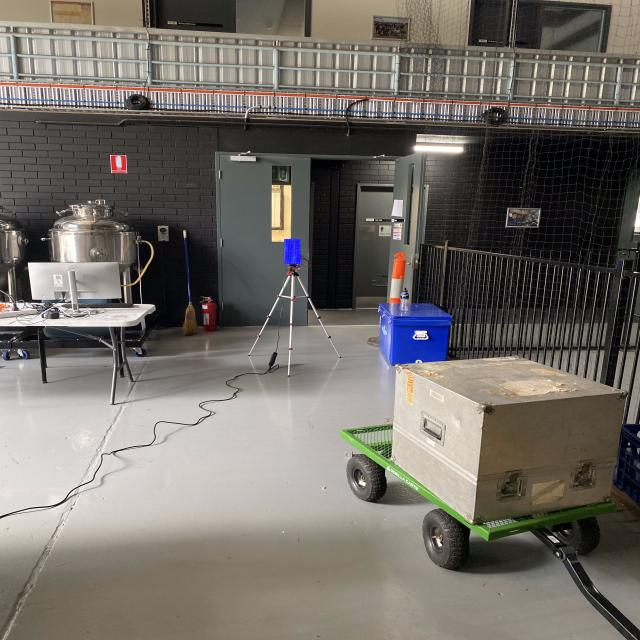matrix: (279, 235, 306, 271)
